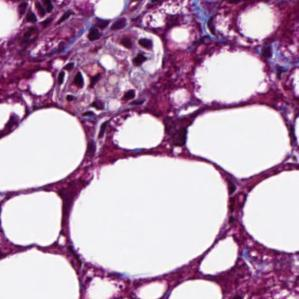inflammation: (54, 27, 167, 114)
